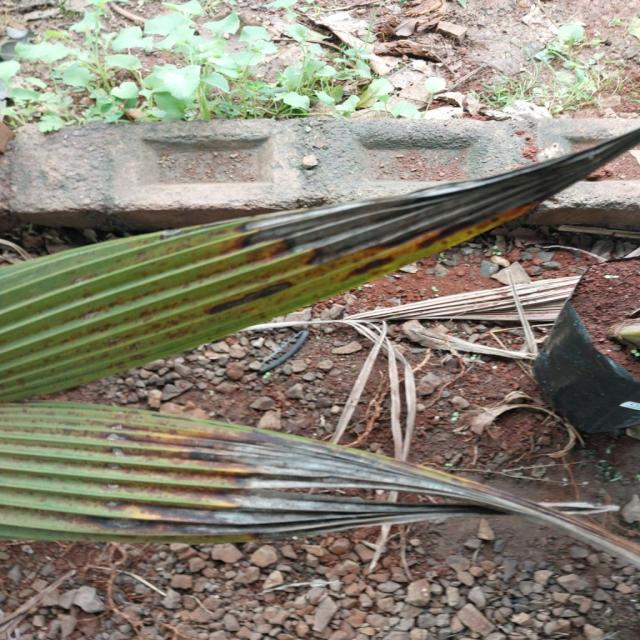gray leaf spot: (0, 130, 640, 545)
